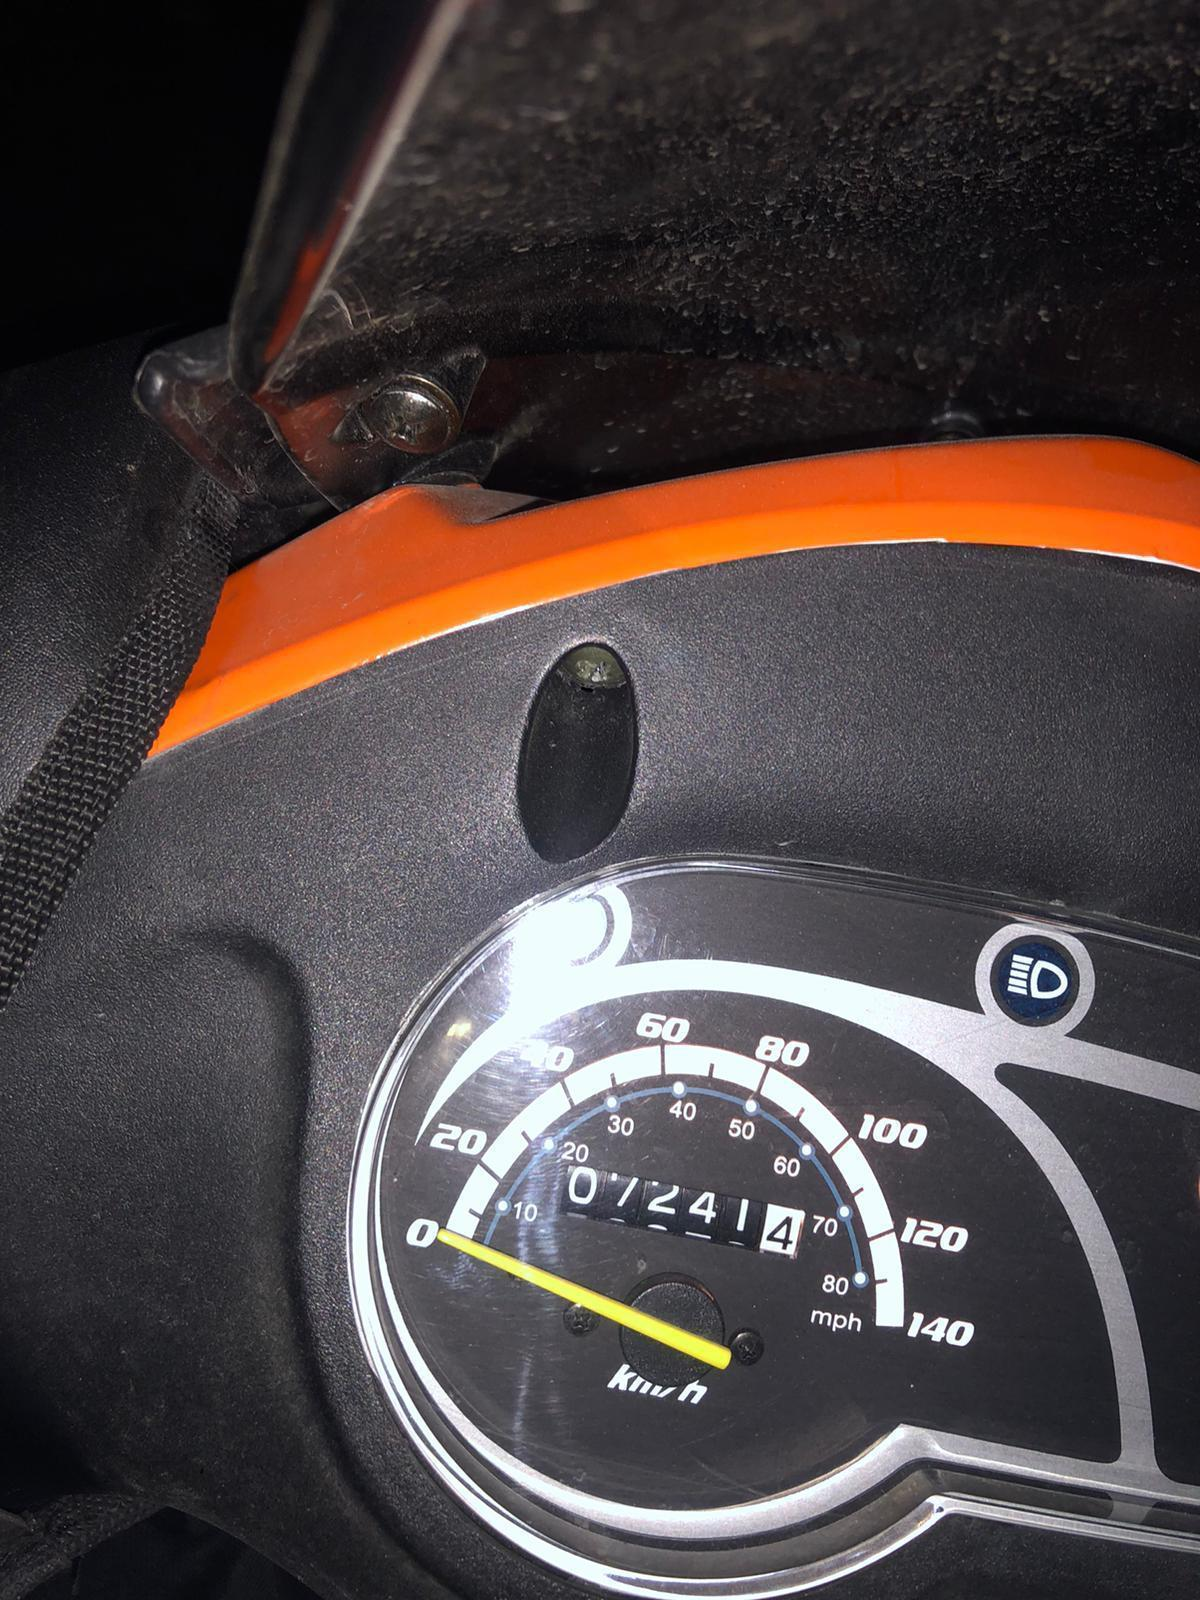0: (568, 1164, 599, 1206), (788, 1157, 800, 1180)
1: (735, 1194, 751, 1233)
2: (644, 1175, 679, 1217)
4: (687, 1182, 720, 1225), (765, 1212, 799, 1250)
6: (773, 1155, 787, 1175)
7: (610, 1169, 640, 1207)
odometer: (558, 1162, 808, 1264)
